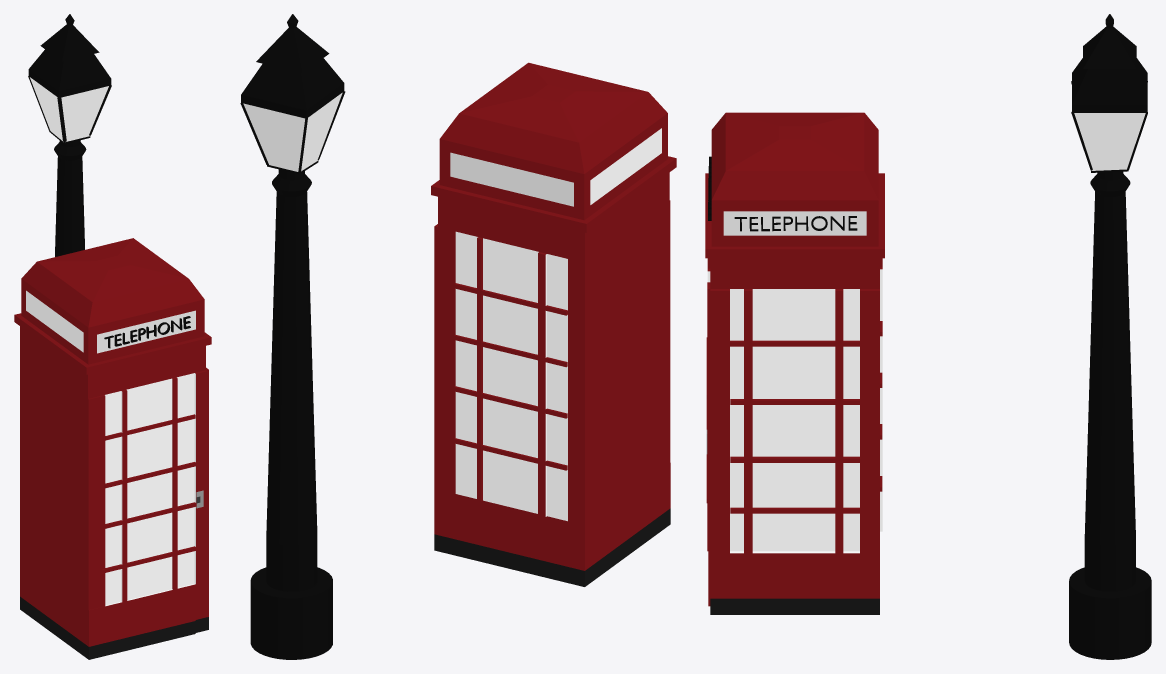
3 renders of one model, left to right at view 1: azimuth 30°, elevation 25°; view 2: azimuth 150°, elevation 25°; view 3: azimuth 270°, elevation 25°, orthographic. The views are drawn at different scales.
Parts seen in each view (by area): view 1: Cube.001_2, Cube_1, Cylinder_3, Text_4; view 2: Cube.001_2, Cylinder_3, Cube_1; view 3: Cube.001_2, Cylinder_3, Cube_1, Text.001_5.
Part boxes in pixels (box(x1,y1,x2,y2)): Cube.001_2: box(14, 238, 211, 659); Cube_1: box(28, 14, 111, 143); Cylinder_3: box(54, 140, 86, 256); Text_4: box(104, 316, 190, 348); Cube.001_2: box(431, 62, 676, 586); Cylinder_3: box(250, 169, 332, 659); Cube_1: box(240, 14, 345, 174); Cube.001_2: box(705, 112, 884, 614); Cylinder_3: box(1069, 171, 1151, 659); Cube_1: box(1071, 14, 1147, 172); Text.001_5: box(734, 216, 857, 231).
Bounding box in the file's own units: 4.13 × 11.39 × 7.34.
